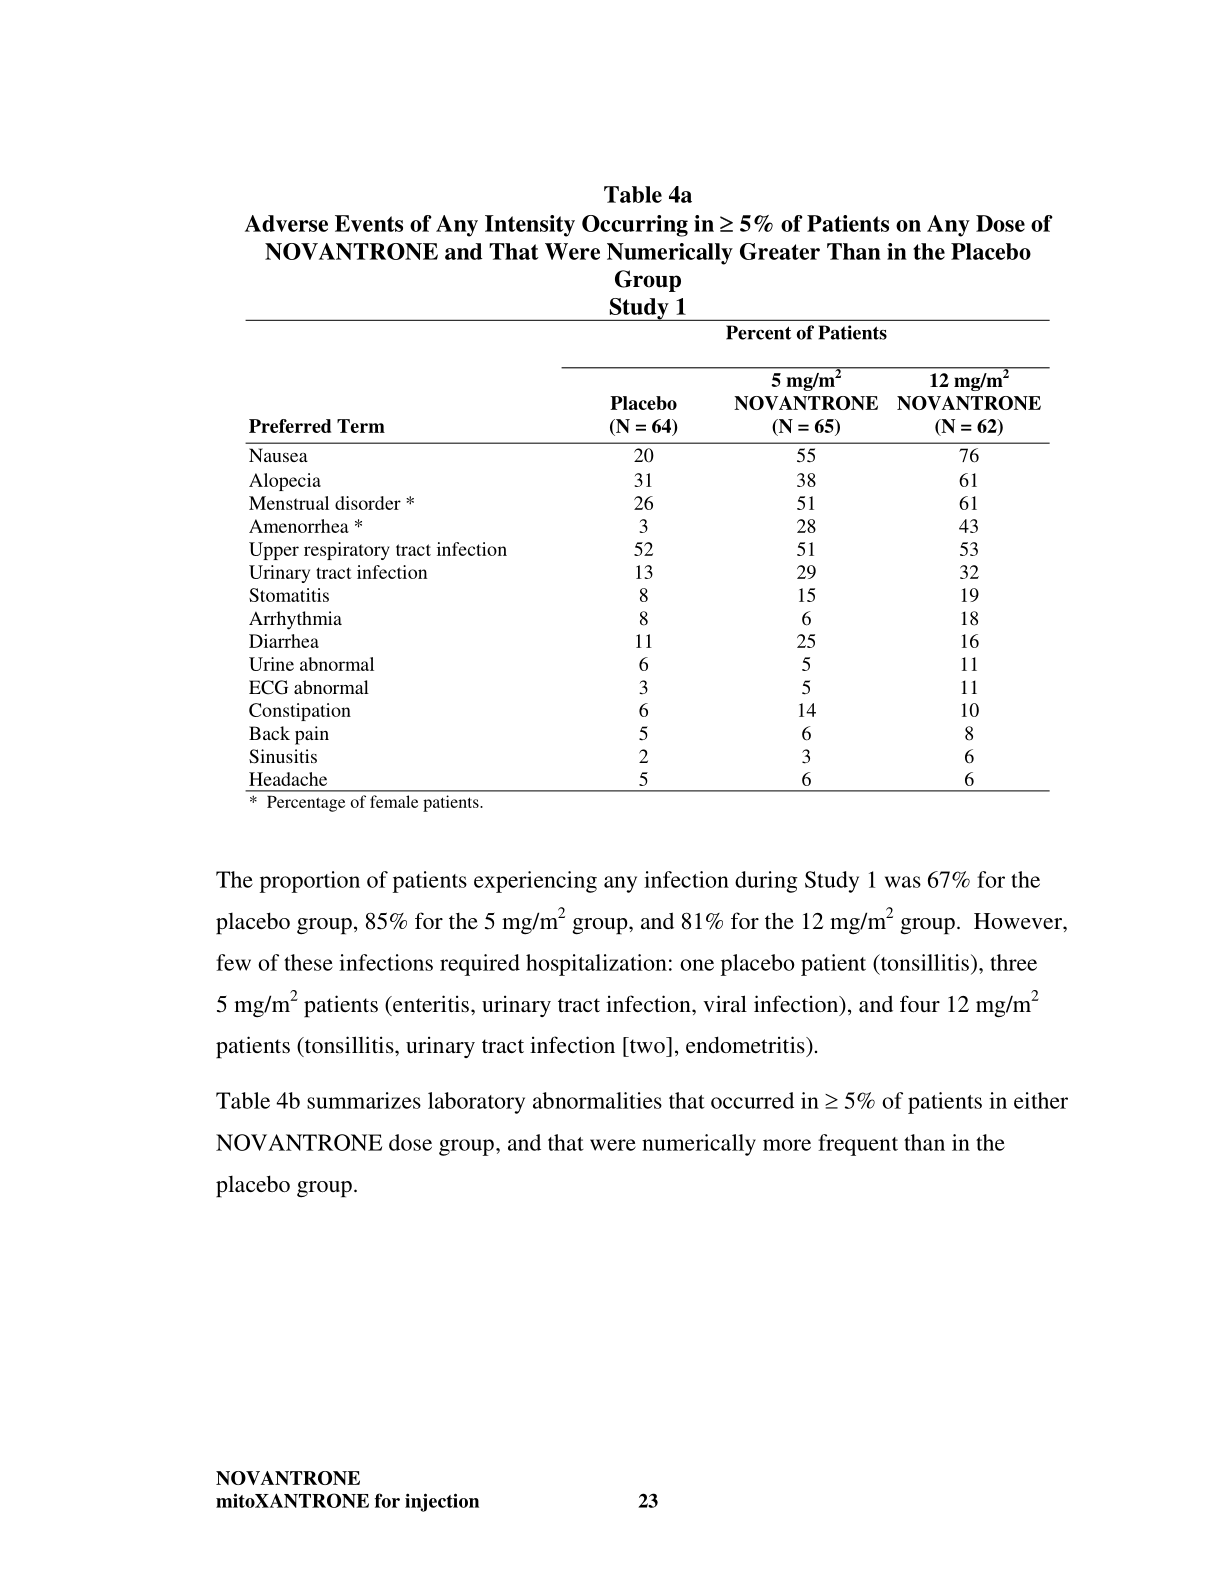partial_lined_merged_cells: (242, 318, 1056, 793)
